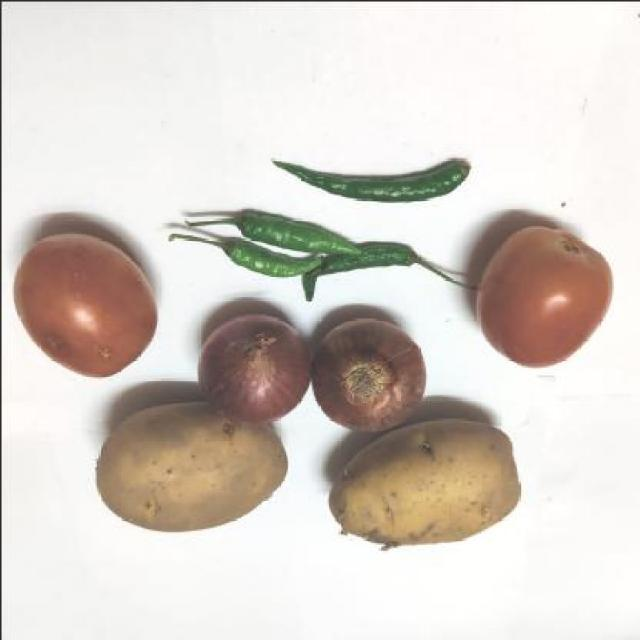Green Chili: (140, 200, 463, 308), (256, 134, 478, 214)
Onion: (189, 312, 322, 425), (310, 318, 424, 428)
Potato: (81, 400, 302, 549), (326, 411, 545, 558)
Tomato: (0, 217, 165, 380), (469, 212, 620, 372)
